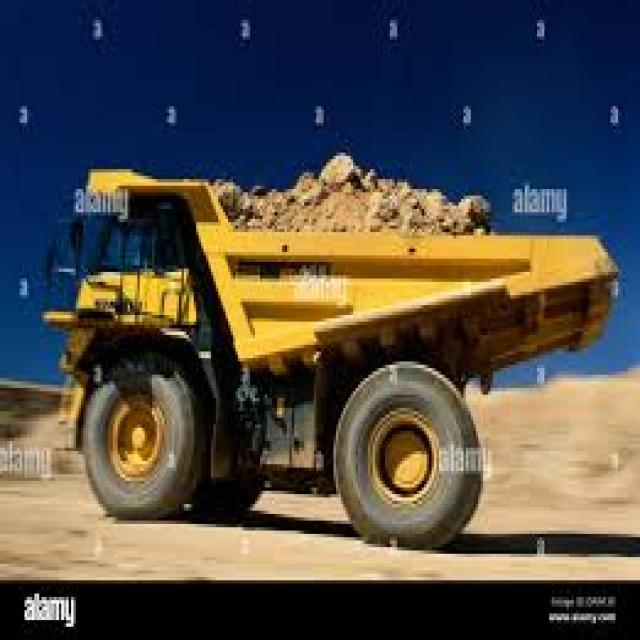dump_truck: (34, 120, 623, 560)
